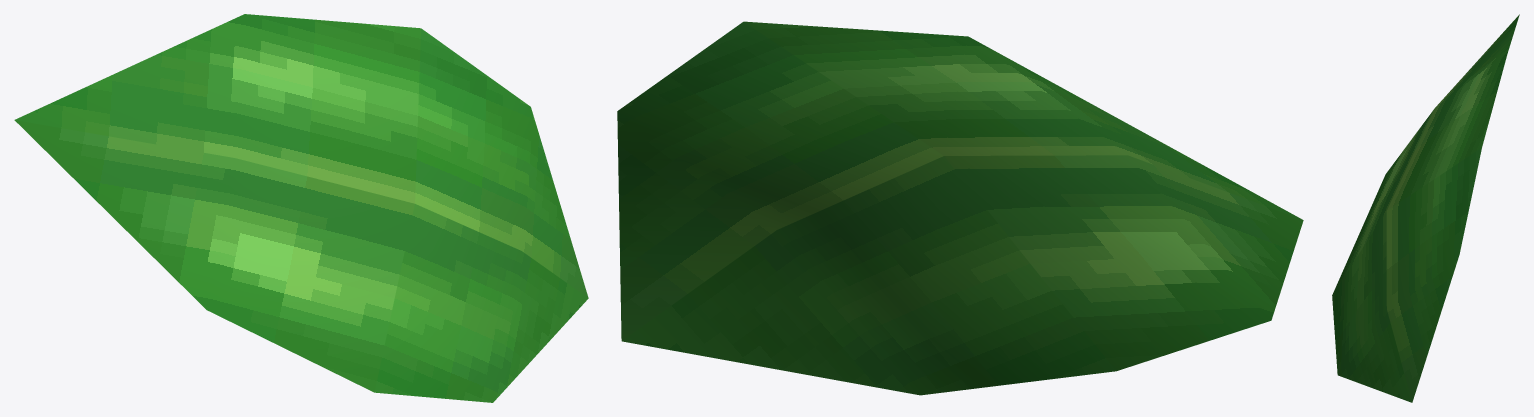
The model's file is EKH_BARRELROOM_PS_JA1_OBJECT110.fbx.
The picture shows the model from 3 angles, left to right: view 1: azimuth 30°, elevation 25°; view 2: azimuth 150°, elevation 25°; view 3: azimuth 270°, elevation 25°; orthographic projection. The views are drawn at different scales.
Parts seen in each view (by area): view 1: EKH_BARRELROOM_PS_JA1_OBJECT110; view 2: EKH_BARRELROOM_PS_JA1_OBJECT110; view 3: EKH_BARRELROOM_PS_JA1_OBJECT110.
Part boxes in pixels (bbox=[...]): EKH_BARRELROOM_PS_JA1_OBJECT110: bbox=[14, 14, 588, 402]; EKH_BARRELROOM_PS_JA1_OBJECT110: bbox=[617, 21, 1303, 395]; EKH_BARRELROOM_PS_JA1_OBJECT110: bbox=[1332, 14, 1519, 402].
Bounding box in the file's own units: 2055 × 1334 × 846.
Materials: 1 (1 with a texture image).
